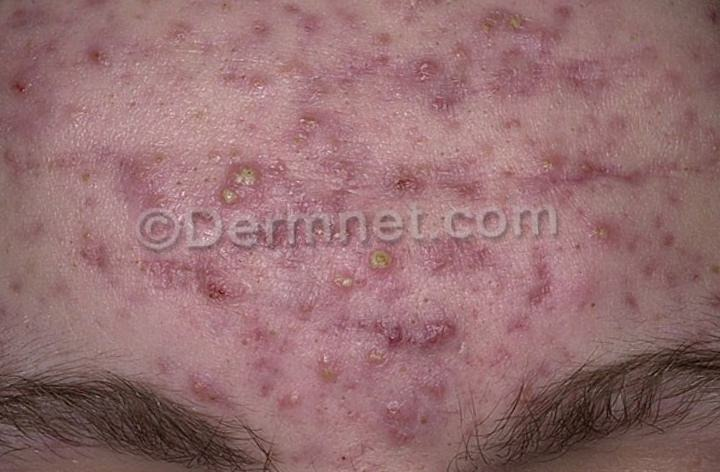Acne: (7, 8, 697, 435)
